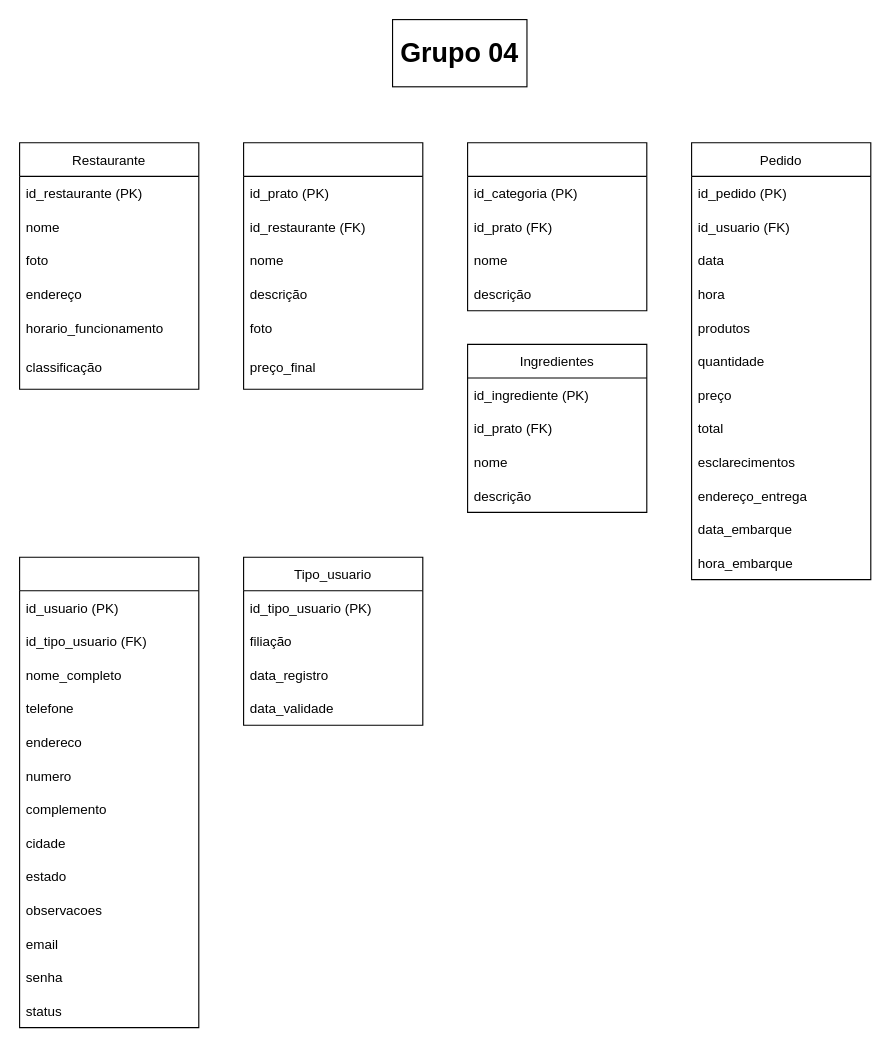
The diagram is 890 pixels wide and 1047 high, and some of its shapes have lost their labels. The shapes that lost their labels are listed below. From the top down, each one's box as (x1, y1, x2, y2) in pixels, then its label:
(466, 142, 647, 311): Categorias
(242, 142, 423, 389): Pratos
(18, 556, 199, 1028): Usuário
